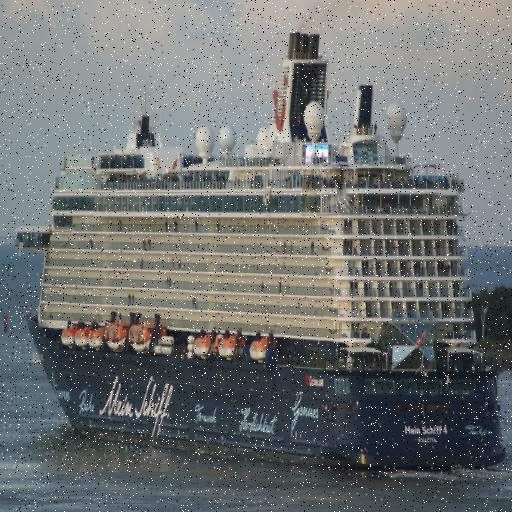cruises: (12, 10, 512, 478)
